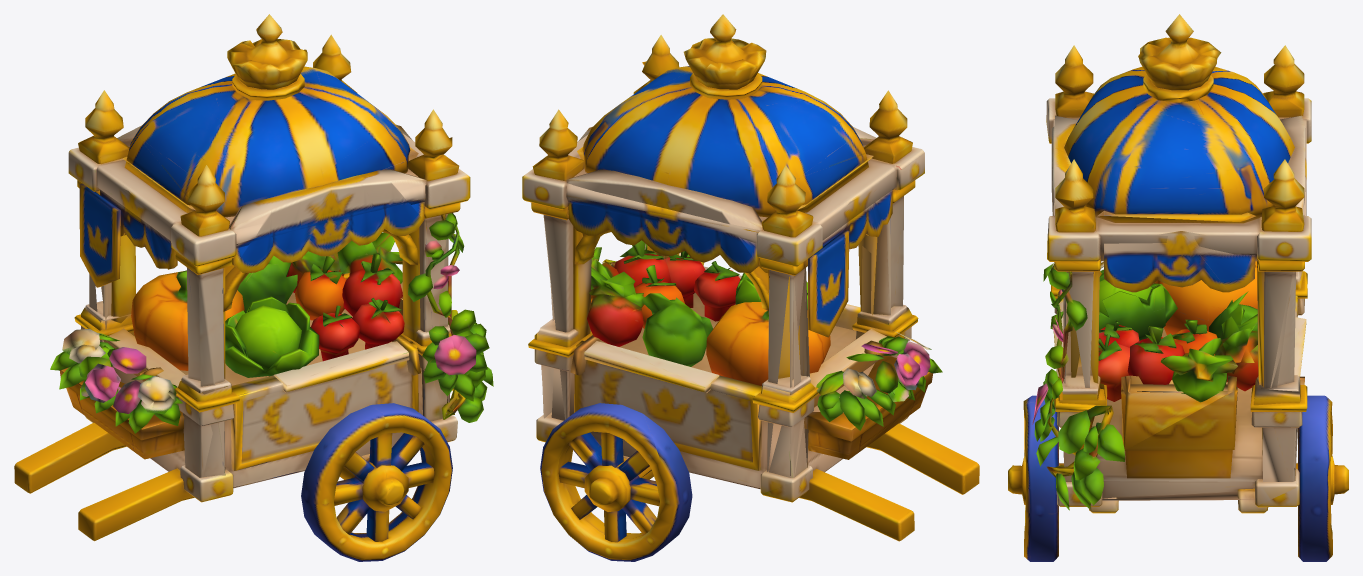
File: cart_royal.glb
The picture shows the model from 3 angles, left to right: view 1: azimuth 30°, elevation 25°; view 2: azimuth 150°, elevation 25°; view 3: azimuth 270°, elevation 25°; orthographic projection. The views are drawn at different scales.
Parts seen in each view (by area): view 1: geometry_0; view 2: geometry_0; view 3: geometry_0.
Part boxes in pixels (x1,y1,x2,y2): geometry_0: [14, 14, 493, 561]; geometry_0: [522, 14, 979, 561]; geometry_0: [1008, 14, 1348, 561].
Size of the model in its own units: 0.7939 by 0.9521 by 0.5649.
Materials: 1 (1 with a texture image).
